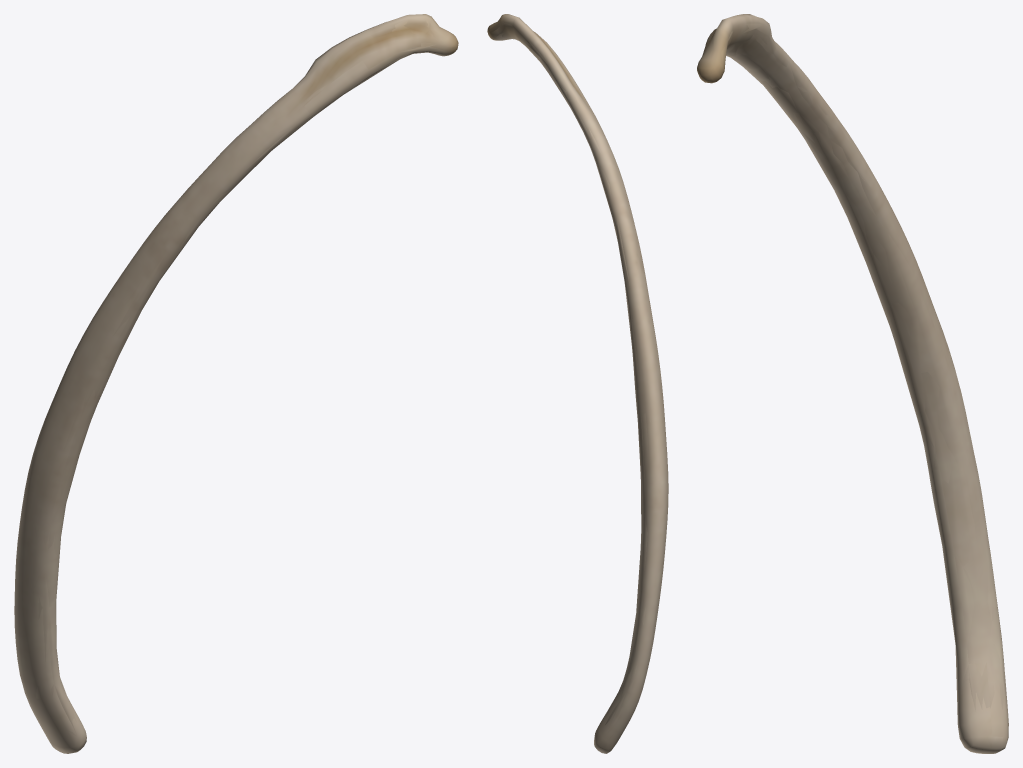
File: Rib R08.fbx
3 renders of one model, left to right at view 1: azimuth 30°, elevation 25°; view 2: azimuth 150°, elevation 25°; view 3: azimuth 270°, elevation 25°, orthographic. The views are drawn at different scales.
Visible parts, largest first — view 1: Rib R08, Rib R08 low; view 2: Rib R08, Rib R08 low; view 3: Rib R08 low, Rib R08.
Part boxes in pixels (x1=…): Rib R08: x1=14, y1=14, x2=458, y2=753; Rib R08 low: x1=15, y1=15, x2=457, y2=751; Rib R08: x1=487, y1=14, x2=668, y2=753; Rib R08 low: x1=487, y1=16, x2=665, y2=751; Rib R08 low: x1=697, y1=16, x2=1008, y2=751; Rib R08: x1=697, y1=14, x2=1008, y2=753.
Bounding box in the file's own units: 21.29 × 48.08 × 15.8.
1 material, 1 textured.
